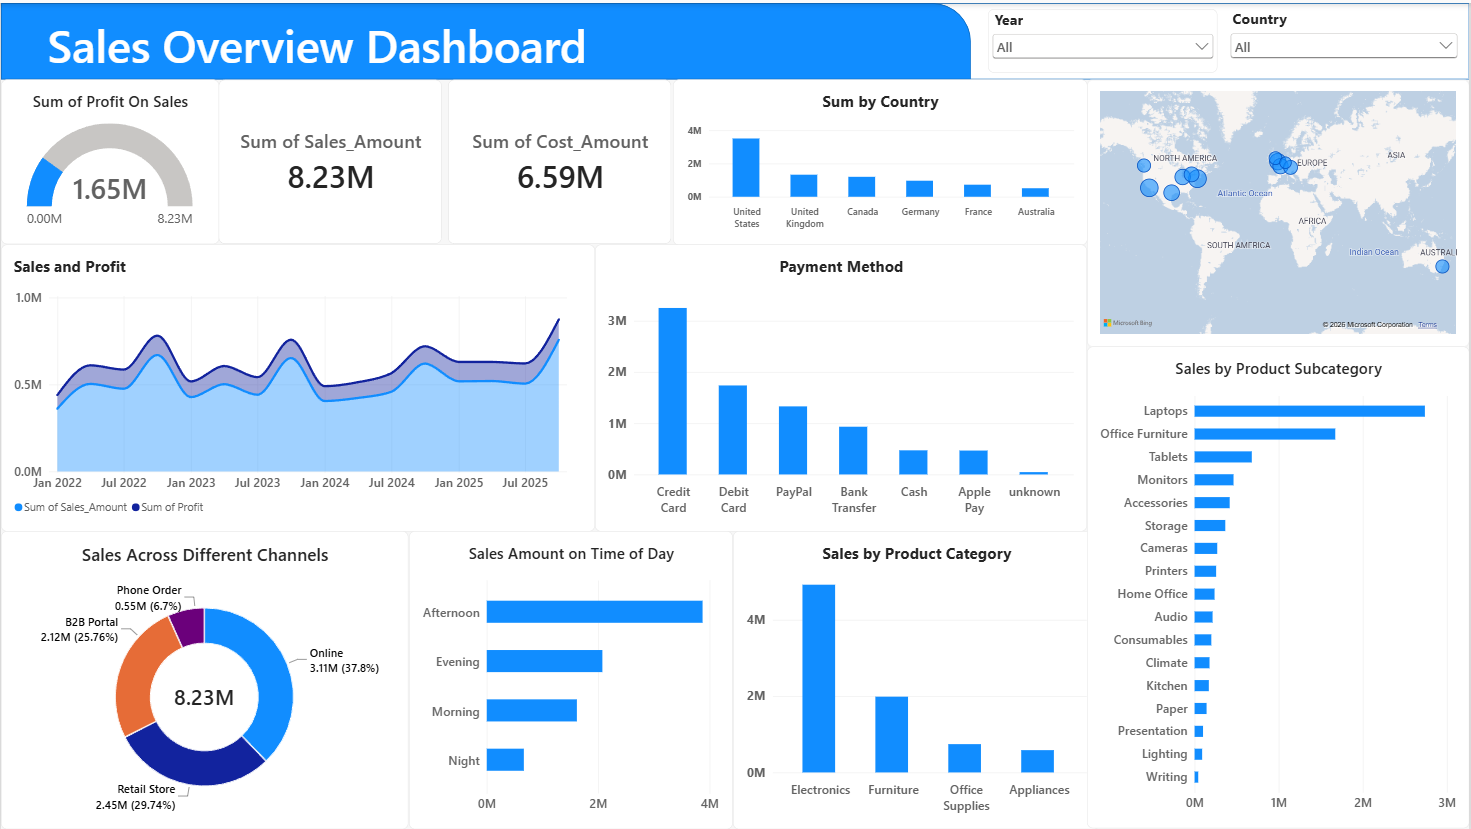

This screenshot's page, from the dashboard's own definition file:
{"tool":"powerbi","page":{"name":"Sales","canvas":[1920,1080],"ordinal":0},"visuals":[{"type":"shape","box":[0,0,1920,100],"z":0,"group":"g1"},{"type":"shape","box":[0,0,1268.2,100],"z":0,"group":"g2"},{"type":"group","id":"g1","title":"Group 2","box":[0,0,1920,100],"z":500},{"type":"slicer","fields":{"Values":["Table1.Order_Date.Variation.Date Hierarchy.Year"]},"box":[1291.2,7.5,300,83.3],"z":500,"group":"g1"},{"type":"group","id":"g2","title":"Group 1","box":[0,0,1268.3,100],"z":750},{"type":"slicer","fields":{"Values":["Table1.Country"]},"box":[1602.5,7.5,306.7,83.3],"z":750,"group":"g1"},{"type":"gauge","title":"Sum of Profit On Sales","fields":{"MaxValue":["Sum(Table1.Sales_Amount)"],"Y":["Sum(Table1.Profit)"]},"box":[0,100,285,215],"z":875},{"type":"textbox","box":[60.5,16,897.1,82],"z":1000,"group":"g2"},{"type":"cardVisual","fields":{"Data":["Sum(Table1.Sales_Amount)","Sum(Table1.Cost_Amount)"]},"box":[285,100,593.3,215],"z":1000},{"type":"clusteredColumnChart","title":"Sum by Country","fields":{"Category":["Table1.Country"],"Y":["Sum(Table1.Sales_Amount)"]},"box":[878.3,100,541.7,216.7],"z":4500},{"type":"map","fields":{"Category":["Table1.City"],"Size":["Sum(Table1.Sales_Amount)"]},"box":[1420,100,500,350],"z":5000},{"type":"stackedAreaChart","title":"Sales and Profit","fields":{"Category":["Table1.Order_Date.Variation.Date Hierarchy.Year","Table1.Order_Date.Variation.Date Hierarchy.Quarter"],"Y":["Sum(Table1.Sales_Amount)","Sum(Table1.Profit)"]},"box":[0,315,776.7,375],"z":5500},{"type":"clusteredColumnChart","title":"Payment Method","fields":{"Category":["Table1.Payment_Method"],"Y":["Sum(Table1.Sales_Amount)"]},"box":[776.7,316.7,643.3,375],"z":5750},{"type":"donutChart","title":"Sales Across Different Channels","fields":{"Category":["Table1.Sales_Channel"],"Y":["Sum(Table1.Sales_Amount)"]},"box":[0,690,532.5,390],"z":7500},{"type":"clusteredBarChart","title":"Sales Amount on Time of Day","fields":{"Category":["Table1.Time_of_Day"],"Y":["Sum(Table1.Sales_Amount)"]},"box":[533.3,690,423.3,390],"z":7750},{"type":"clusteredColumnChart","title":"Sales by Product Category","fields":{"Category":["Table1.Product_Category"],"Y":["Sum(Table1.Sales_Amount)"]},"box":[956.7,690,480,390],"z":7875},{"type":"clusteredBarChart","title":"Sales by Product Subcategory","fields":{"Category":["Table1.Product_Subcategory"],"Y":["Sum(Table1.Sales_Amount)"]},"box":[1420,450,500,630],"z":8000}]}

Visuals, with their boxes in screenshot pixels (x1, y1, x2, y2), scaled from the page's 1920x1080 canvas onto the 1471x829 screenshot:
shape: <bbox>0, 0, 1470, 77</bbox>
shape: <bbox>0, 0, 972, 77</bbox>
"Group 2" group: <bbox>0, 0, 1470, 77</bbox>
slicer - Table1.Order_Date.Variation.Date Hierarchy.Year: <bbox>989, 6, 1219, 70</bbox>
"Group 1" group: <bbox>0, 0, 972, 77</bbox>
slicer - Table1.Country: <bbox>1228, 6, 1463, 70</bbox>
"Sum of Profit On Sales" gauge: <bbox>0, 77, 218, 242</bbox>
textbox: <bbox>46, 12, 734, 75</bbox>
cardVisual - Sum(Table1.Sales_Amount) x Sum(Table1.Cost_Amount): <bbox>218, 77, 673, 242</bbox>
"Sum by Country" clusteredColumnChart: <bbox>673, 77, 1088, 243</bbox>
map - Table1.City x Sum(Table1.Sales_Amount): <bbox>1088, 77, 1470, 345</bbox>
"Sales and Profit" stackedAreaChart: <bbox>0, 242, 595, 530</bbox>
"Payment Method" clusteredColumnChart: <bbox>595, 243, 1088, 531</bbox>
"Sales Across Different Channels" donutChart: <bbox>0, 530, 408, 828</bbox>
"Sales Amount on Time of Day" clusteredBarChart: <bbox>409, 530, 733, 828</bbox>
"Sales by Product Category" clusteredColumnChart: <bbox>733, 530, 1101, 828</bbox>
"Sales by Product Subcategory" clusteredBarChart: <bbox>1088, 345, 1470, 828</bbox>
